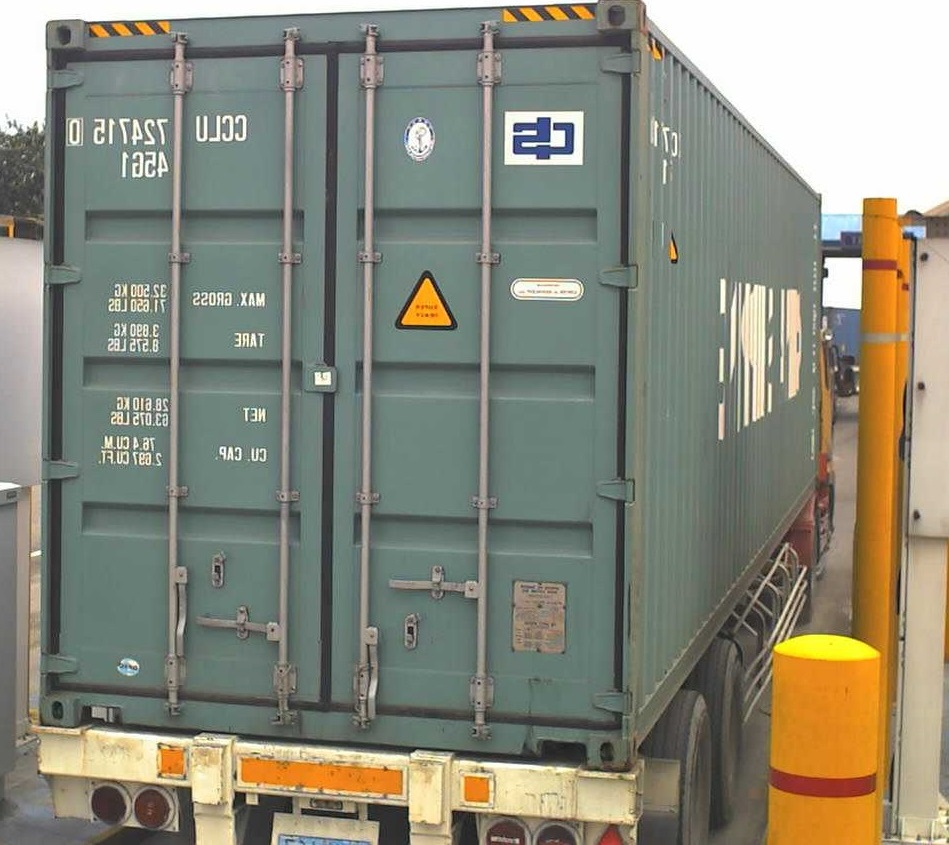container_door: (41, 1, 641, 771)
